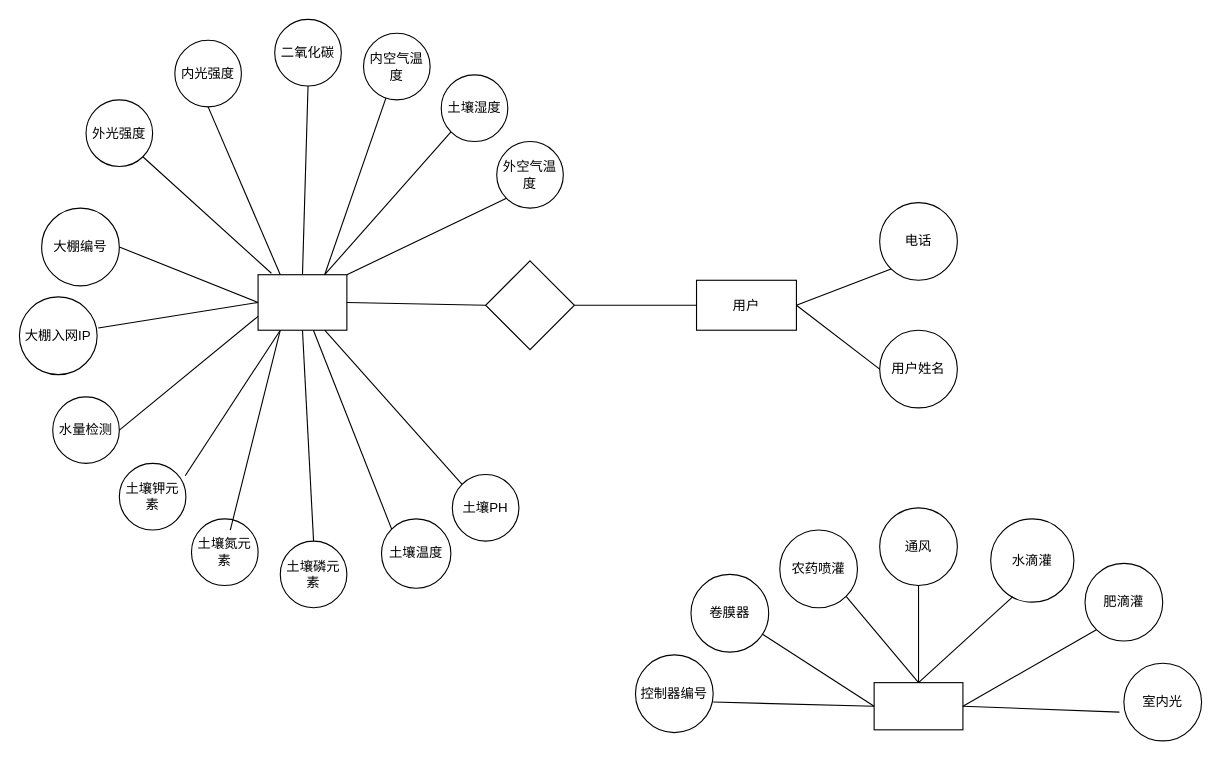
Image size: 1221x760. Some labels were removed from this diagram. Here are the shapes that lost their labels. From the top down, the centre of each, then its label:
At point 302,302: "大棚".
At point 529,305: "拥有".
At point 918,706: "机械控制组".
